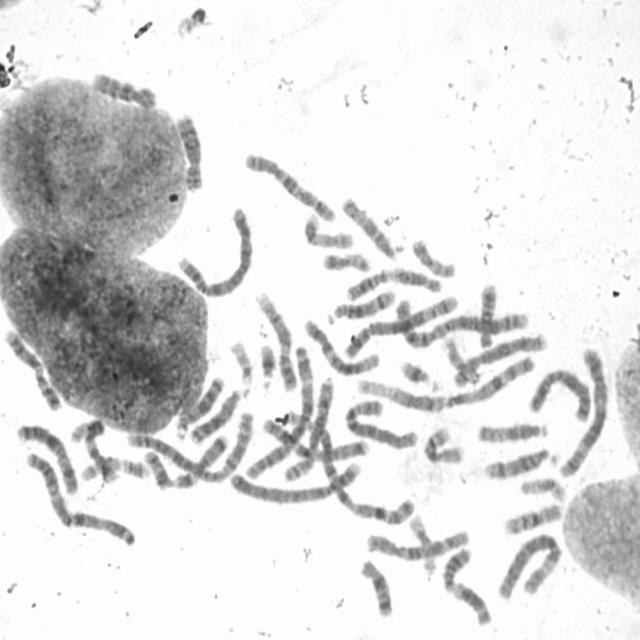A1: (262, 409, 416, 528), (357, 350, 538, 413)
A2: (125, 406, 258, 486), (392, 297, 532, 348)
A3: (22, 446, 139, 548), (242, 339, 318, 482)
B4: (174, 201, 255, 300), (222, 457, 366, 507)
B5: (339, 289, 461, 362), (555, 342, 611, 479)
C10: (241, 146, 340, 224), (88, 66, 160, 112)
C11: (438, 541, 495, 628), (341, 263, 445, 303)
C12: (301, 313, 382, 376), (68, 413, 120, 484)
C6: (492, 528, 565, 602), (340, 395, 420, 451)
C7: (257, 412, 371, 462), (138, 433, 231, 487)
C8: (449, 330, 549, 389), (172, 109, 206, 192)
C9: (1, 324, 64, 413), (250, 288, 296, 393)
D13: (172, 369, 227, 442), (188, 384, 246, 446)
D14: (481, 441, 556, 481), (327, 285, 397, 323)
D15: (339, 192, 402, 262), (473, 416, 552, 444)
E16: (500, 498, 565, 536), (421, 421, 466, 466)
E17: (300, 210, 355, 250), (76, 455, 151, 484)
E18: (357, 554, 395, 618), (474, 278, 500, 350)
F19: (406, 508, 439, 576), (516, 472, 568, 504)
F20: (408, 233, 458, 279), (319, 247, 373, 273)
G21: (396, 354, 443, 393), (256, 339, 278, 391)
G22: (440, 332, 483, 386), (226, 336, 255, 387)
X: (12, 418, 80, 496), (525, 365, 594, 423)
